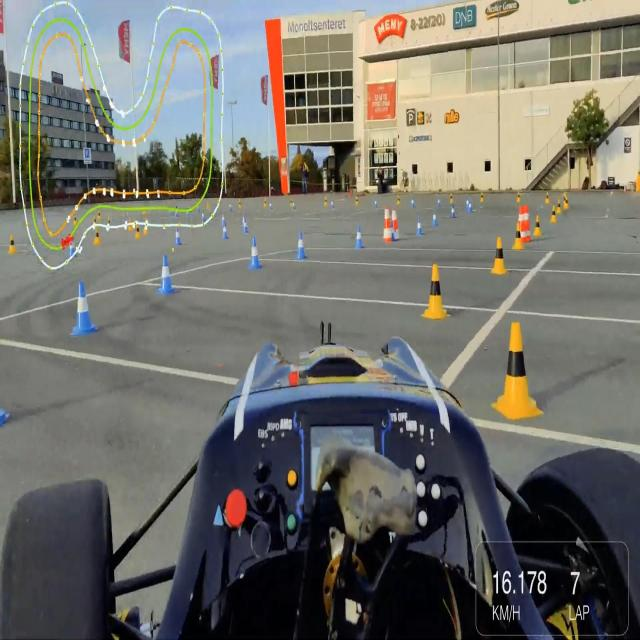blue_cone: (72, 280, 96, 336), (158, 255, 174, 293), (249, 237, 262, 270), (296, 231, 306, 260), (354, 224, 364, 247), (174, 227, 182, 245), (416, 216, 423, 236), (222, 222, 229, 239), (242, 218, 249, 234), (432, 210, 438, 227), (450, 202, 456, 218)
large_orange_cone: (516, 206, 527, 243), (390, 207, 401, 241), (383, 209, 392, 243), (524, 206, 532, 241)
yellow_cone: (491, 322, 544, 419), (420, 265, 450, 320), (492, 237, 508, 275), (512, 221, 524, 249), (534, 216, 542, 236), (8, 234, 16, 254), (94, 227, 101, 245), (134, 222, 141, 240), (550, 204, 556, 223), (556, 198, 562, 212)
